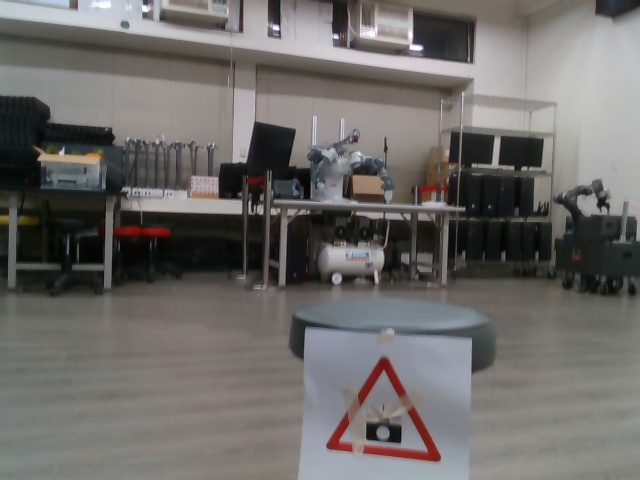camera: (320, 352, 447, 468)
